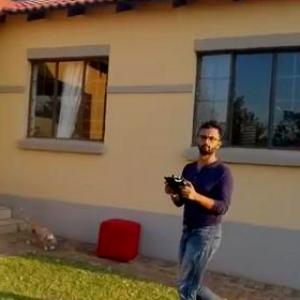follow: (156, 118, 244, 299)
null: (18, 209, 55, 254)
